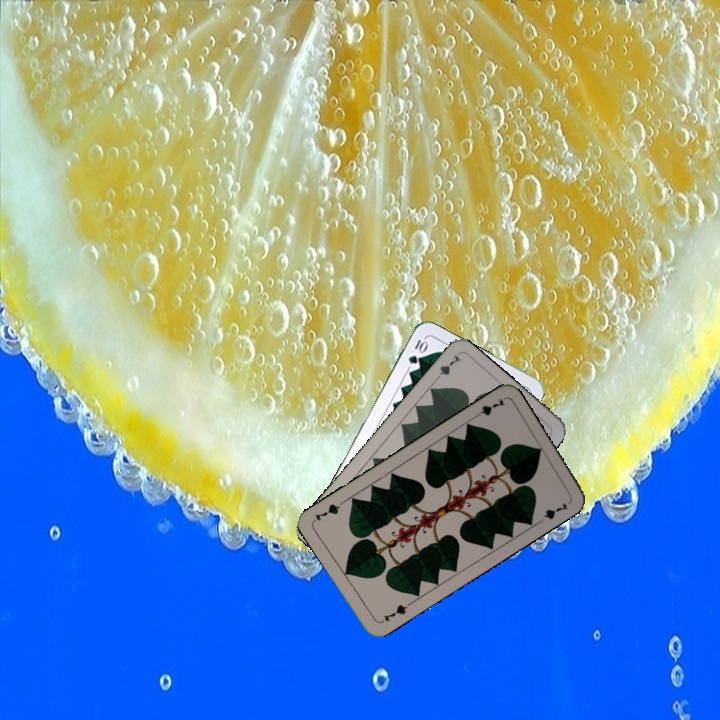G10: (404, 335, 430, 367)
G7: (430, 350, 463, 385), (469, 394, 508, 421), (376, 599, 413, 626)
